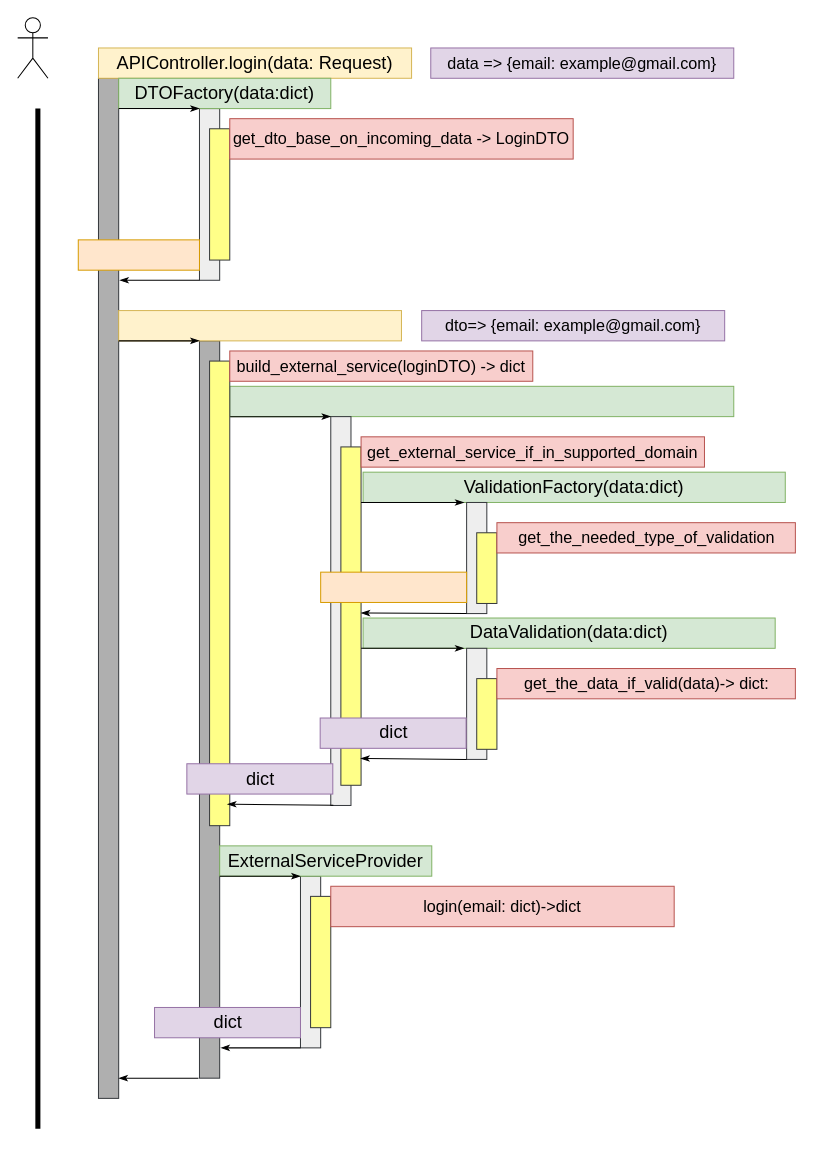
This 813x1149 diagram has some shape labels left out. Here are the shapes that lost their labels. From the top down, the centre of each, then its label:
(32,47): User
(138,254): LoginDTO()
(259,325): APIService.login(dto: LoginDTO)
(481,401): ExternalServiceFactory(external_service_login: LoginDTO)
(393,586): DataValidation()
